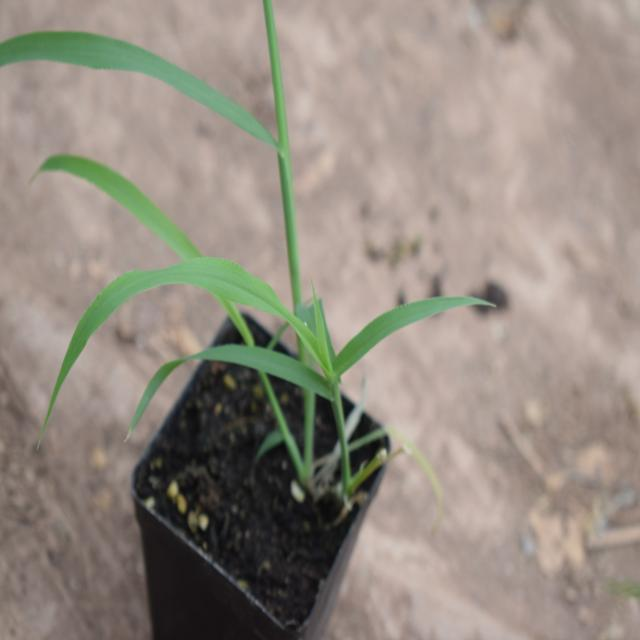crabgrass: (50, 128, 425, 487)
